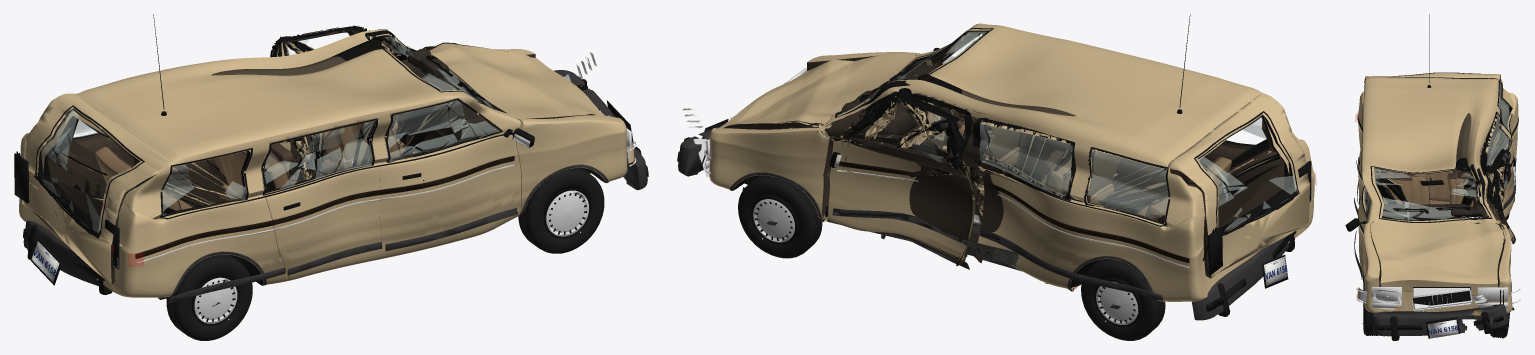
The model's file is minivan86_side_d2_lod1.glb.
3 renders of one model, left to right at view 1: azimuth 30°, elevation 25°; view 2: azimuth 150°, elevation 25°; view 3: azimuth 270°, elevation 25°, orthographic. The views are drawn at different scales.
Visible parts, largest first — view 1: Body, Door_FR, Door_SR, Liftgate, Interior, Hood, Wheel_FR_mesh, Wheel_RR_mesh, Trim, Trim_FR, Glass_FR, Glass_SR (+7 smaller); view 2: Body, Door_FL, Glass, Liftgate, Hood, Trim, Interior, Wheel_FL_mesh, Wheel_RL_mesh, Bumper_R, Trim_FL, Glass_Liftgate (+5 smaller); view 3: Body, Hood, Interior, Glass, Ends, Bumper_F, Trim, Door_FL, Liftgate, Door_FR, Trim_FR, Glass_FL (+3 smaller).
Part boxes in pixels (<box>): Body: <box>19,29,627,297</box>; Door_FR: <box>378,98,521,259</box>; Door_SR: <box>262,118,381,280</box>; Liftgate: <box>22,93,171,284</box>; Interior: <box>95,49,495,210</box>; Hood: <box>428,42,605,119</box>; Wheel_FR_mesh: <box>518,167,604,253</box>; Wheel_RR_mesh: <box>166,254,252,340</box>; Trim: <box>135,14,608,303</box>; Trim_FR: <box>378,98,534,250</box>; Glass_FR: <box>384,98,499,162</box>; Glass_SR: <box>262,121,377,195</box>; Body: <box>709,23,1314,301</box>; Door_FL: <box>828,88,974,266</box>; Glass: <box>835,28,1266,220</box>; Liftgate: <box>1167,93,1309,278</box>; Hood: <box>719,54,917,129</box>; Trim: <box>729,14,1235,301</box>; Interior: <box>841,41,1231,219</box>; Wheel_FL_mesh: <box>738,175,822,258</box>; Wheel_RL_mesh: <box>1081,259,1165,340</box>; Bumper_R: <box>1192,231,1296,320</box>; Trim_FL: <box>829,97,974,269</box>; Glass_Liftgate: <box>1194,111,1299,235</box>; Body: <box>1358,76,1518,315</box>; Hood: <box>1370,222,1504,295</box>; Interior: <box>1379,153,1487,218</box>; Glass: <box>1370,83,1510,222</box>; Ends: <box>1356,287,1520,338</box>; Bumper_F: <box>1372,304,1508,340</box>; Trim: <box>1356,14,1518,302</box>; Door_FL: <box>1482,149,1515,244</box>; Liftgate: <box>1367,73,1503,88</box>; Door_FR: <box>1358,161,1370,277</box>; Trim_FR: <box>1345,150,1370,279</box>; Glass_FL: <box>1490,150,1510,219</box>.
Bounding box in the file's own units: 4.7 × 2.3 × 1.82.
Materials: 34 (5 with a texture image).
